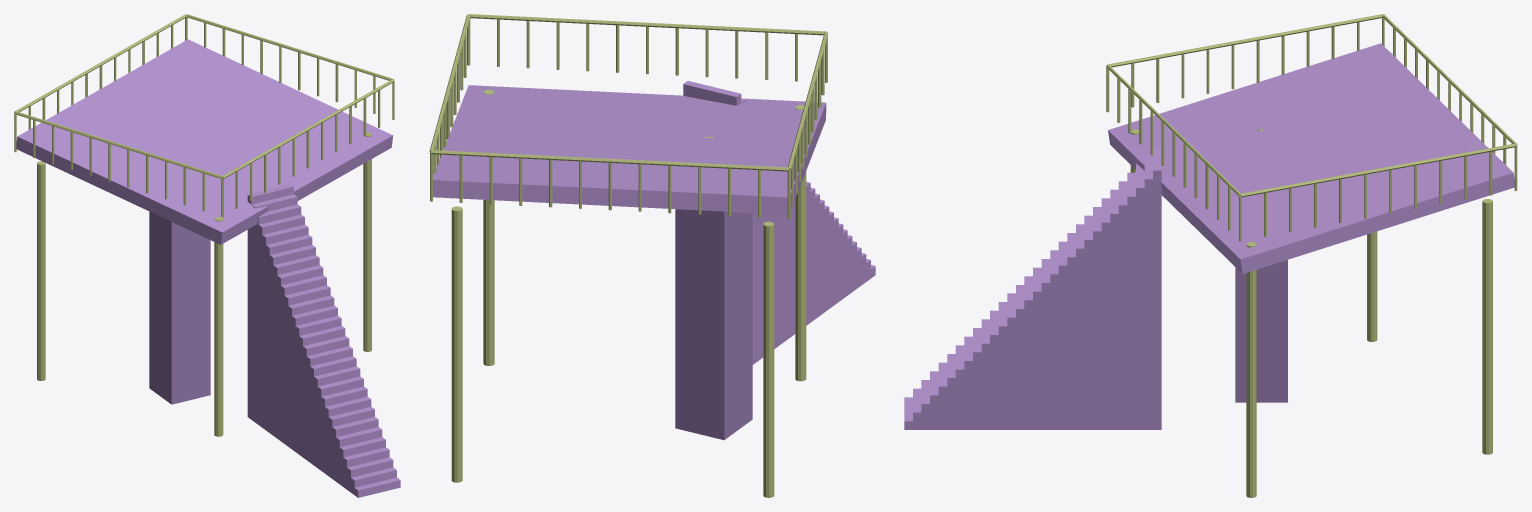
The model's file is folie_tag_132.glb.
The picture shows the model from 3 angles, left to right: view 1: azimuth 30°, elevation 25°; view 2: azimuth 150°, elevation 25°; view 3: azimuth 270°, elevation 25°; orthographic projection. The views are drawn at different scales.
Visible parts, largest first — view 1: folie_tag_132_00_plate, folie_tag_132_stairs, folie_tag_132_line, folie_tag_132_core; view 2: folie_tag_132_00_plate, folie_tag_132_line, folie_tag_132_core, folie_tag_132_stairs; view 3: folie_tag_132_00_plate, folie_tag_132_stairs, folie_tag_132_line, folie_tag_132_core.
Boxes of the visible parts, bbox=[...] form: folie_tag_132_00_plate: bbox=[16, 39, 393, 244]; folie_tag_132_stairs: bbox=[247, 184, 400, 497]; folie_tag_132_line: bbox=[14, 14, 394, 436]; folie_tag_132_core: bbox=[149, 211, 210, 404]; folie_tag_132_00_plate: bbox=[433, 85, 826, 214]; folie_tag_132_line: bbox=[429, 14, 828, 497]; folie_tag_132_core: bbox=[675, 209, 752, 440]; folie_tag_132_stairs: bbox=[683, 81, 875, 364]; folie_tag_132_00_plate: bbox=[1108, 43, 1514, 273]; folie_tag_132_stairs: bbox=[904, 146, 1161, 429]; folie_tag_132_line: bbox=[1106, 14, 1517, 497]; folie_tag_132_core: bbox=[1235, 260, 1287, 402].
Size of the model in its own units: 9 by 7.26 by 12.87.
